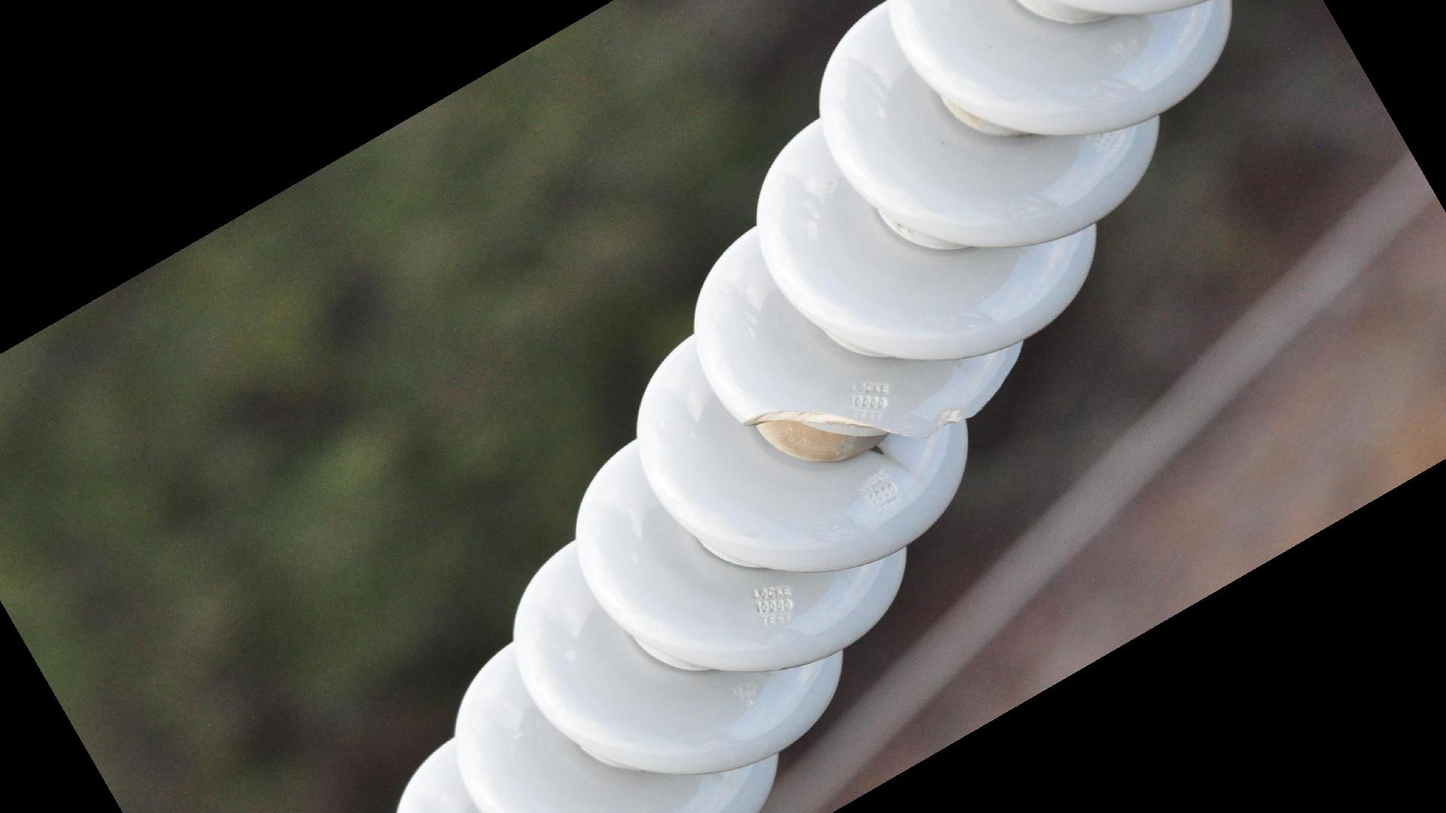insulator: (385, 1, 1237, 813)
insulator_breakage: (734, 401, 979, 445)
